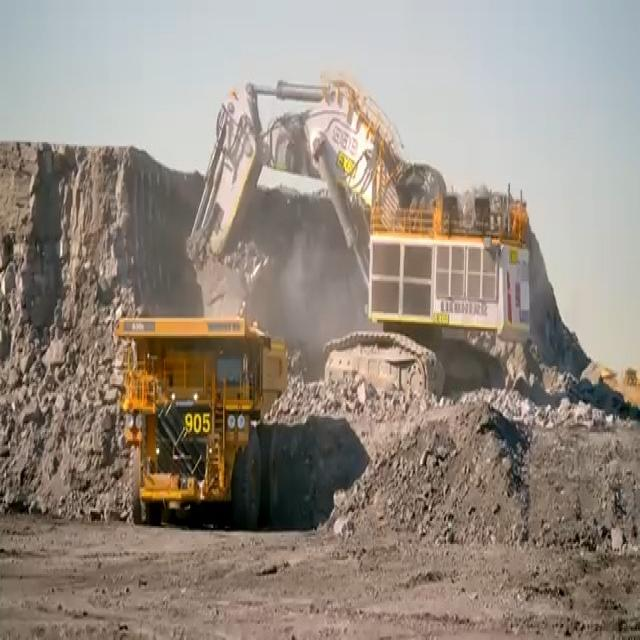dump_truck: (106, 313, 290, 534)
excavator: (176, 74, 521, 332)
